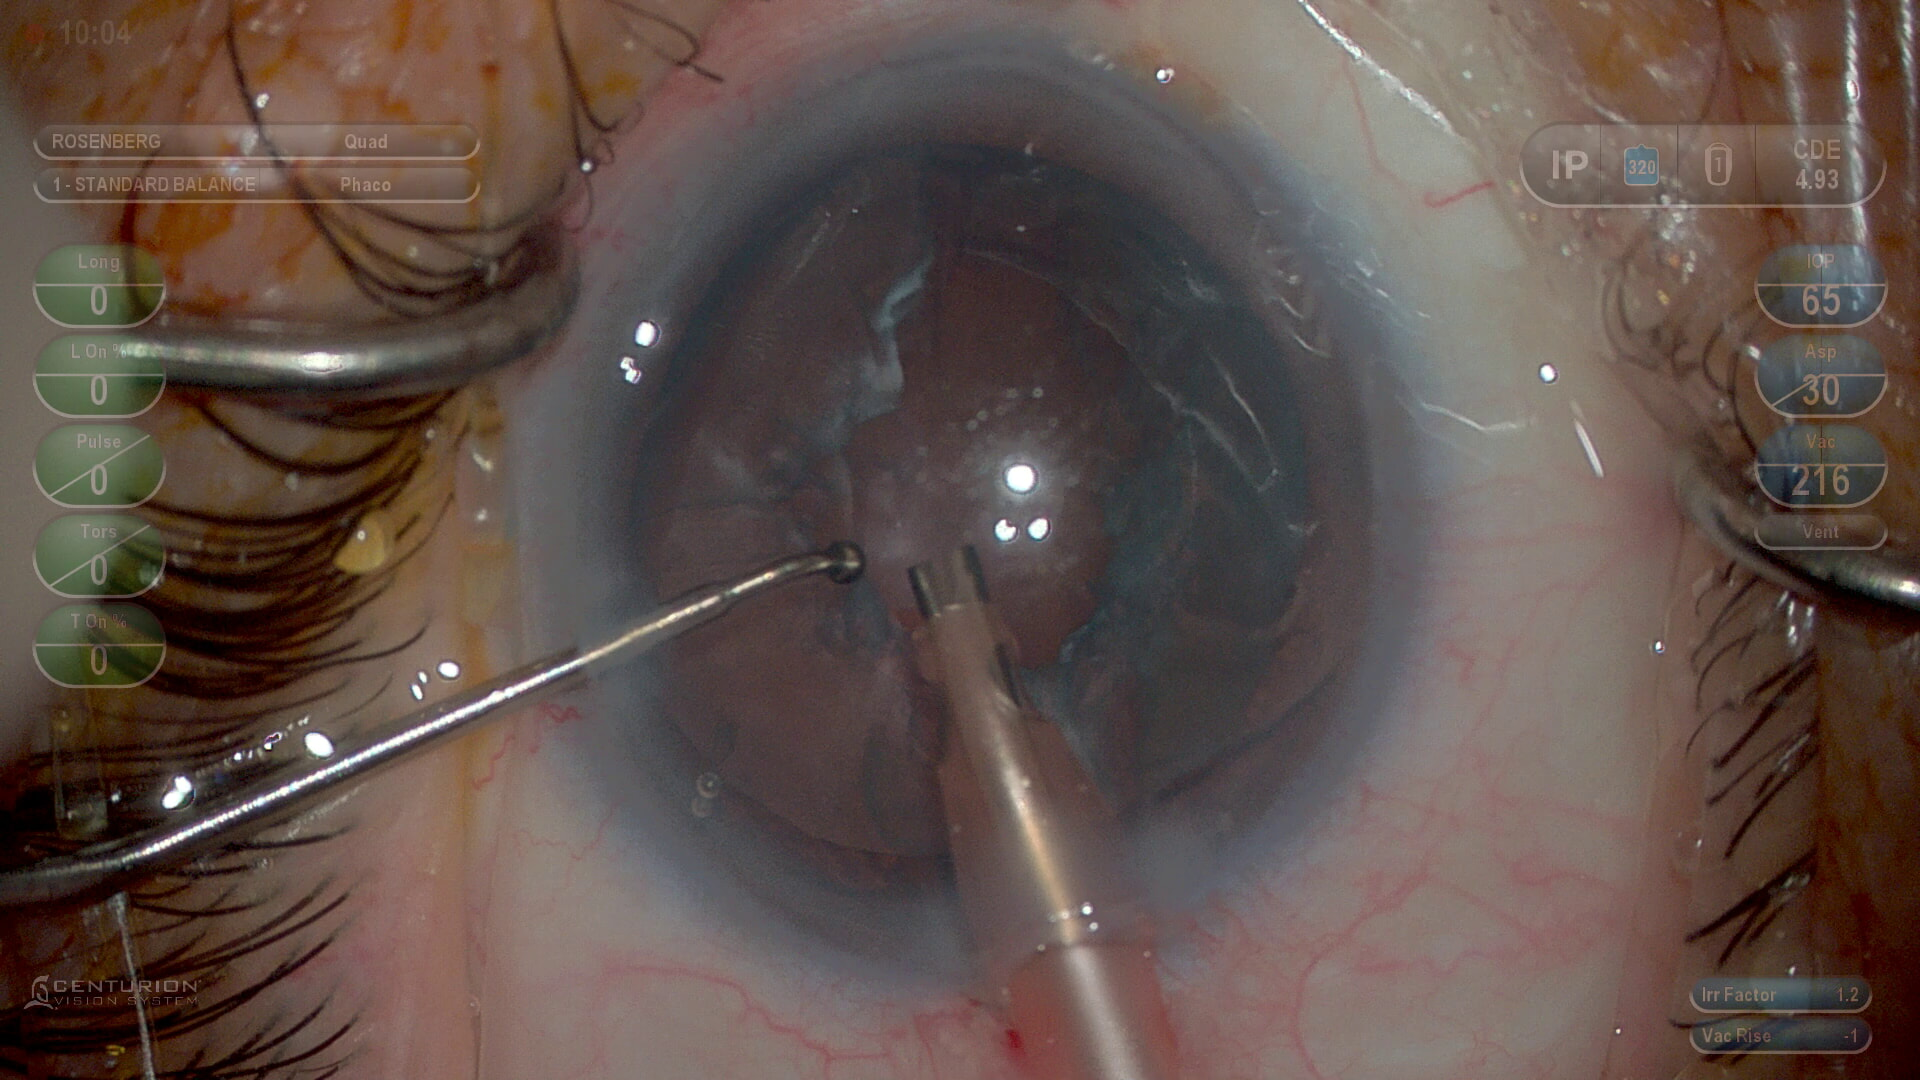pupil: (525, 58, 1403, 936), (657, 141, 1360, 822)
